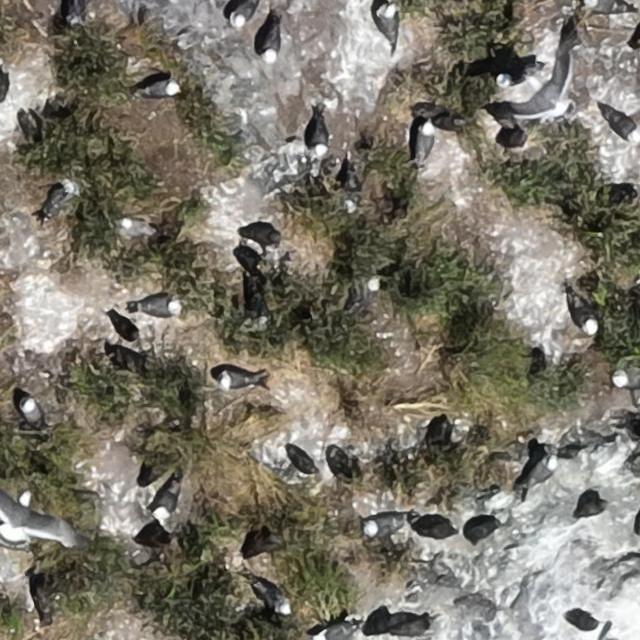F: (509, 17, 578, 117), (2, 489, 72, 549)
umineko: (522, 456, 558, 492), (308, 110, 334, 156), (340, 166, 362, 216), (608, 113, 639, 142), (258, 584, 289, 613), (44, 186, 72, 216), (364, 515, 402, 535), (140, 297, 179, 316), (574, 300, 597, 332), (367, 273, 399, 295), (156, 486, 177, 518), (141, 80, 178, 98), (415, 123, 433, 159), (568, 612, 600, 632), (232, 1, 255, 28), (378, 6, 396, 40), (119, 218, 151, 236), (220, 372, 252, 390), (21, 398, 41, 426), (498, 69, 535, 84), (264, 33, 279, 63), (614, 371, 639, 388), (68, 1, 84, 24)
